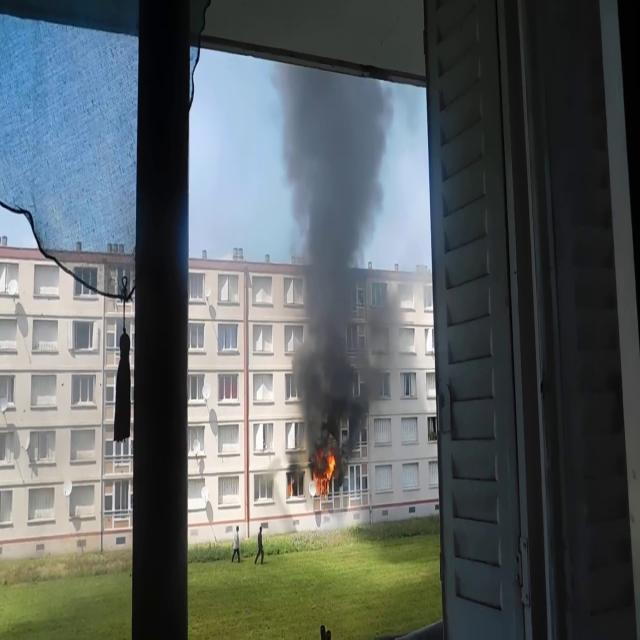Fire: (310, 448, 338, 499)
Smoke: (278, 71, 406, 457)
